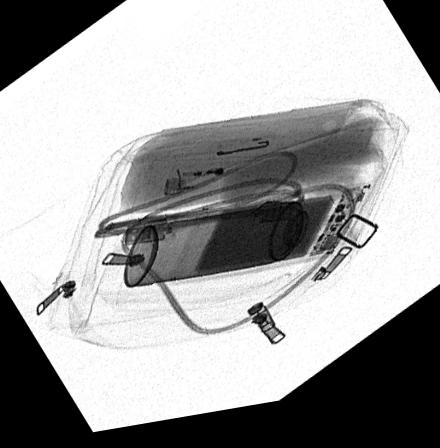Lighter: (162, 163, 267, 201)
Powerbank: (166, 194, 375, 290)
Sprayer: (122, 210, 330, 292)
